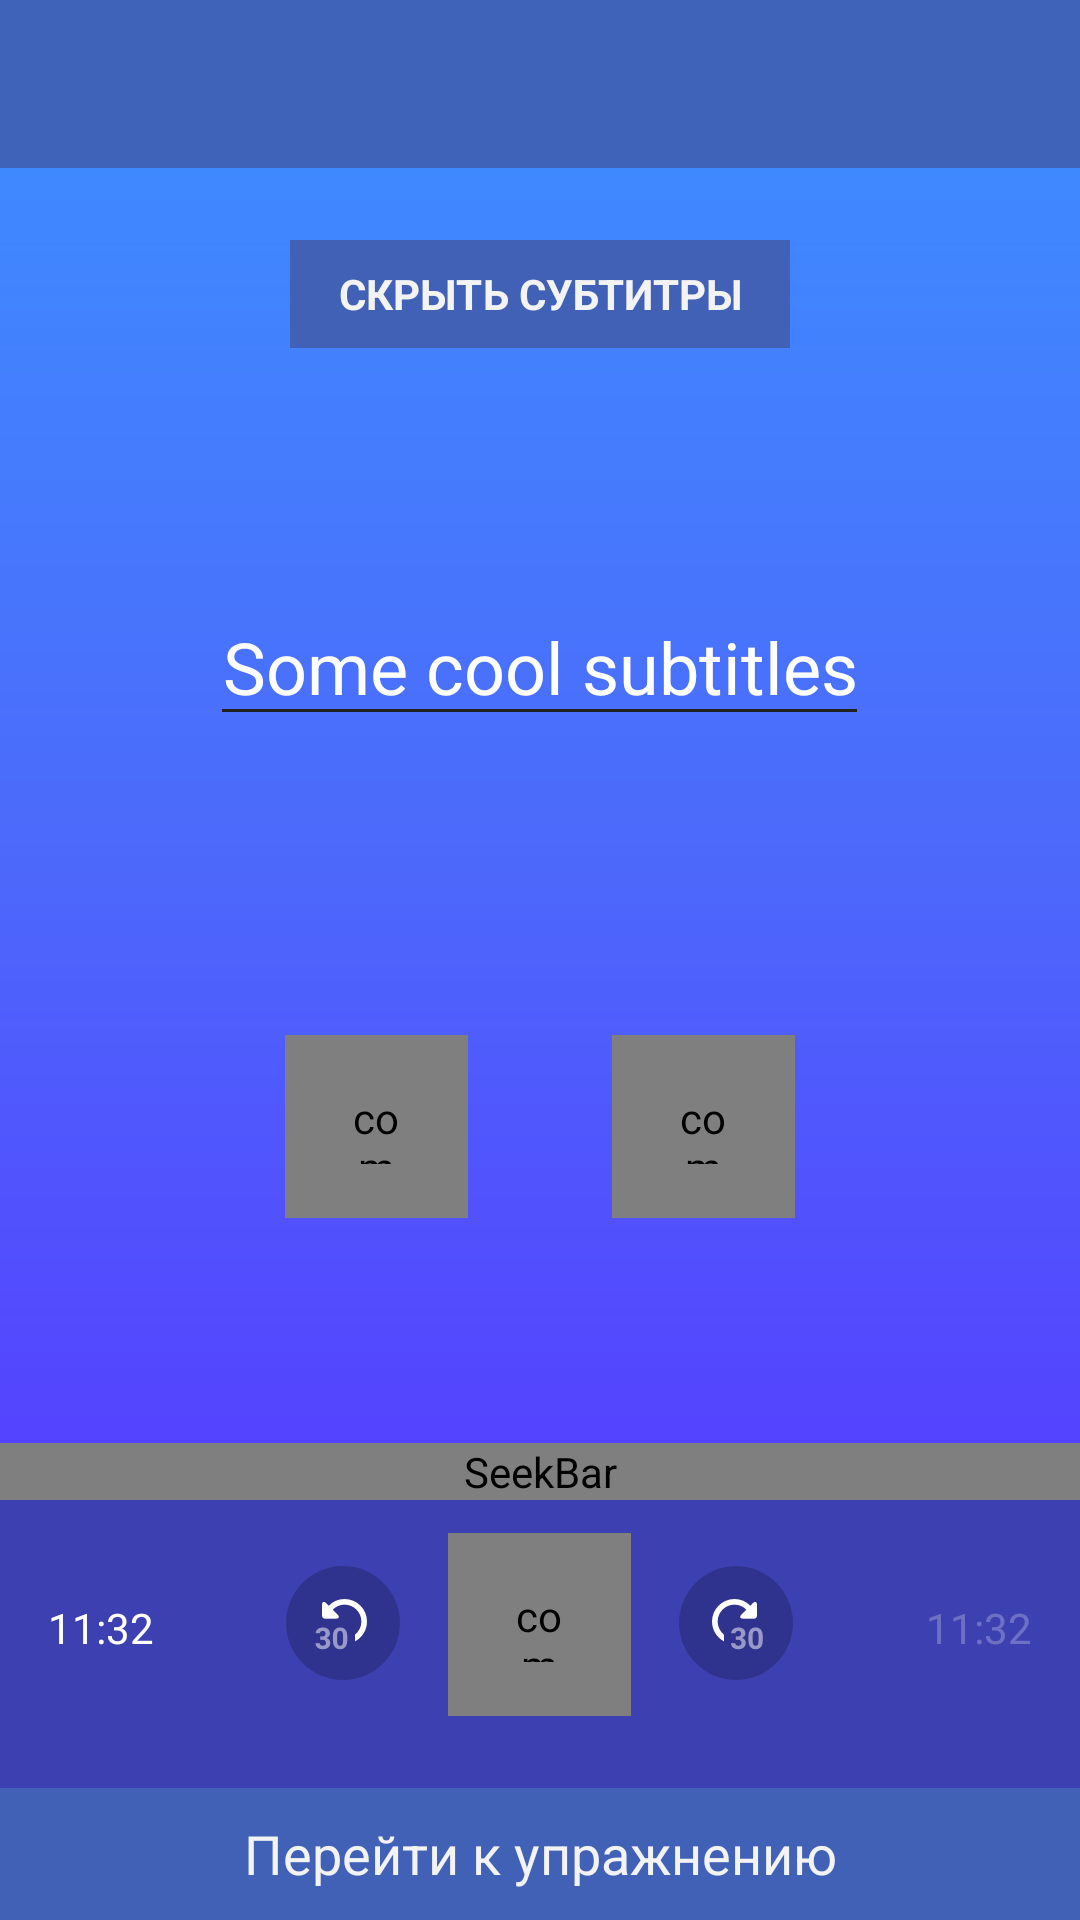

Locate icon controls on the screen. Image size 1080 × 1920, boxes as (x1, y1, x2, y2).
next: (679, 1566, 793, 1680)
prev: (286, 1566, 400, 1680)
